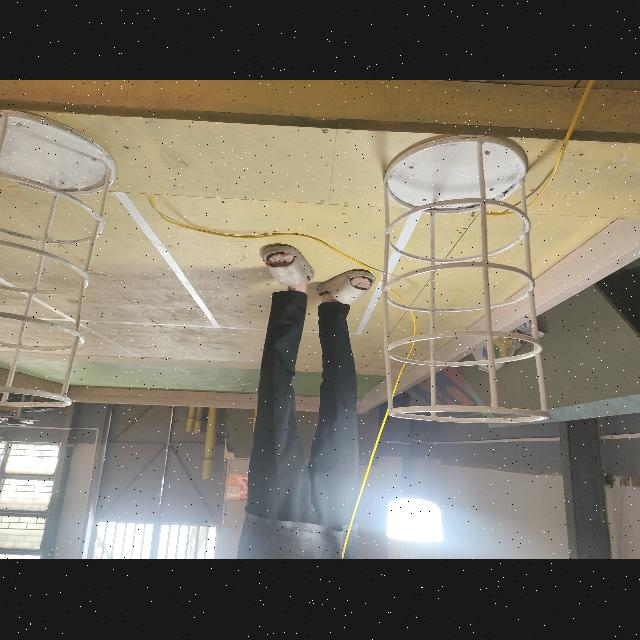S: (377, 136, 551, 428), (0, 99, 118, 417)
